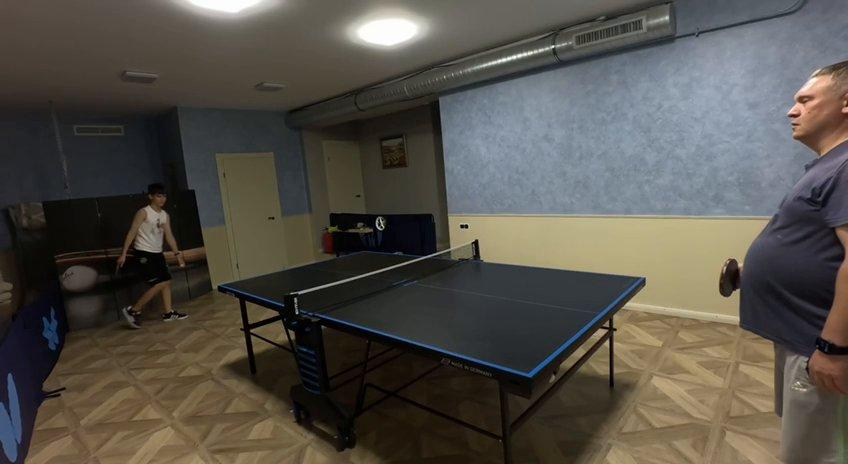Net: (282, 240, 482, 320)
Player1: (119, 183, 186, 327)
Player2: (740, 61, 847, 463)
Table: (225, 253, 644, 374)
